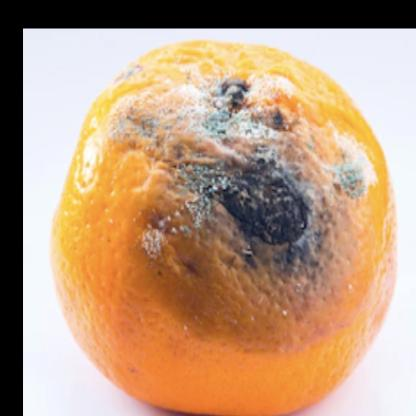rotten: (50, 43, 397, 416)
